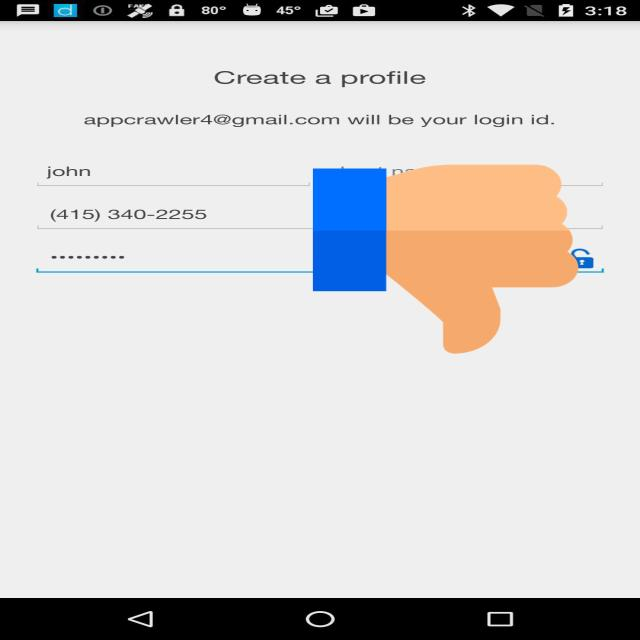obstruction: (313, 160, 578, 358)
